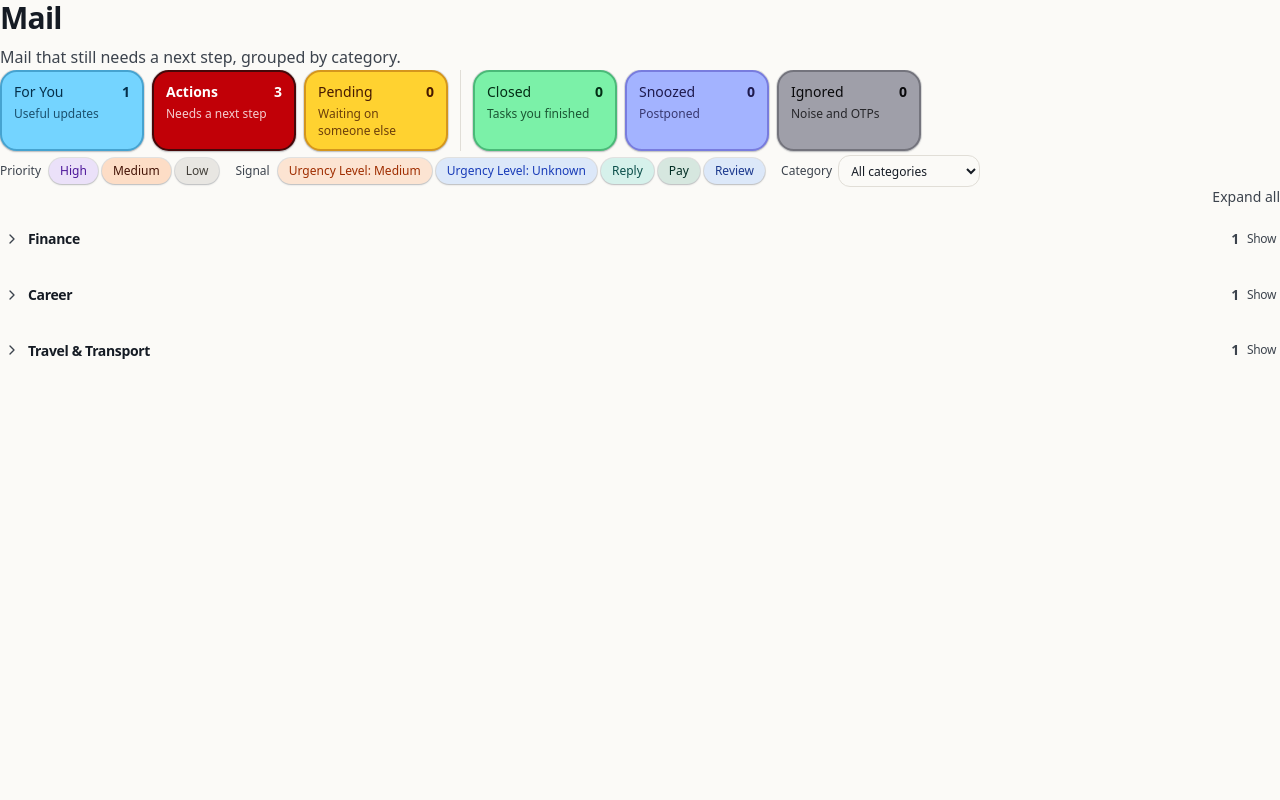
Test: MailWorkspace filters › shows only medium-priority mail when Medium is selected, then restores the list
Click the link with aria-label "Medium priority". click: (136,171)
box: [102,158,171,184]
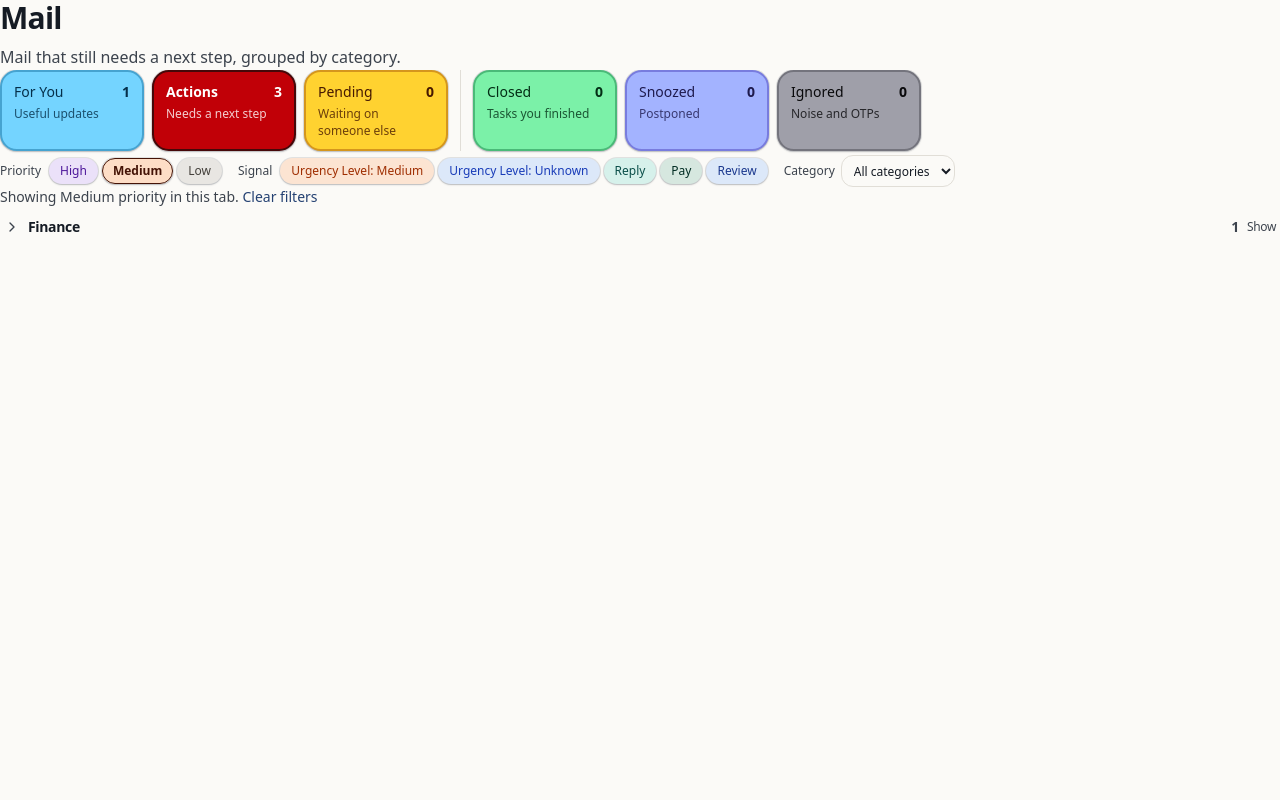
Click the button "Finance 1 Show". click: (54,226)
box: [0,207,1279,247]
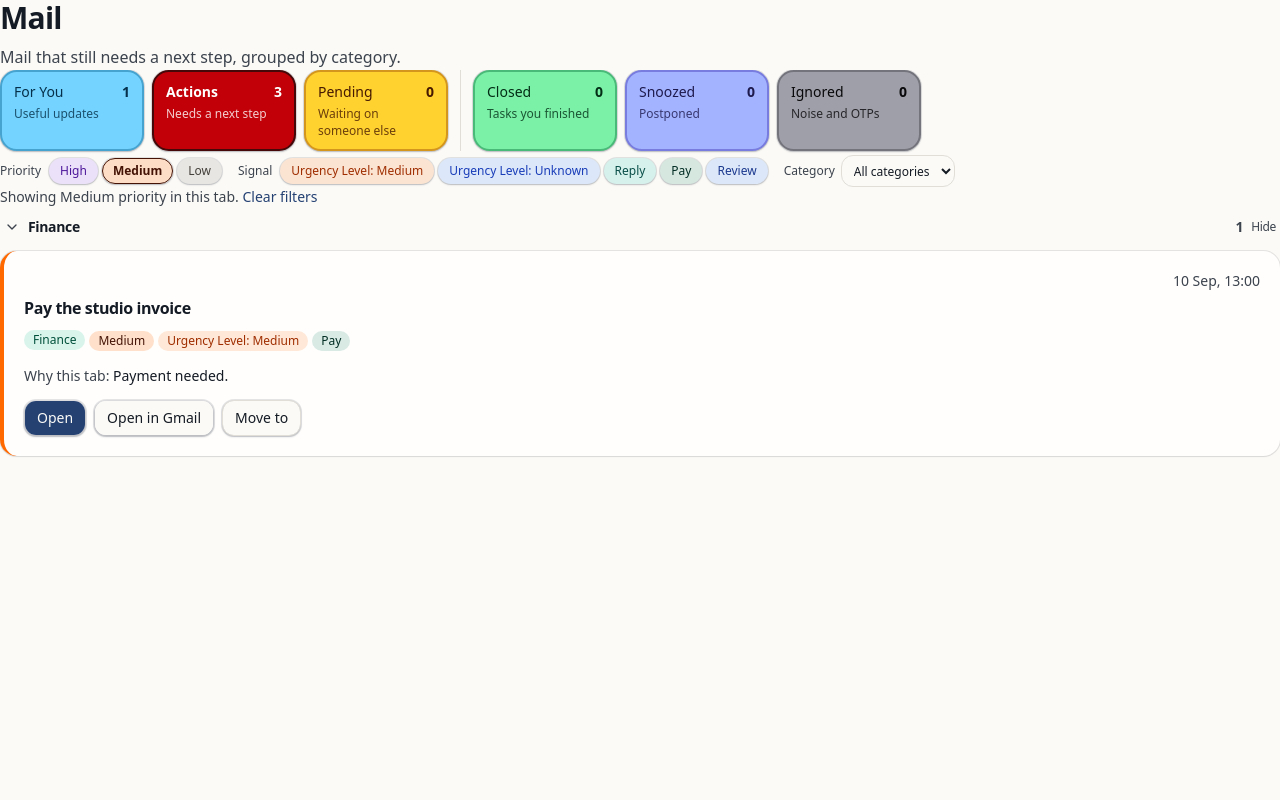
Expected: the text "Reply about the hotel" is not shown
Result: the text "Showing Medium priority in this tab. Clear filters" is shown at [0,187,318,206]
Result: the heading "Pay the studio invoice" is shown at [24,297,191,319]
Click the link "Clear filters". click: (280,196)
box: [242,187,318,206]
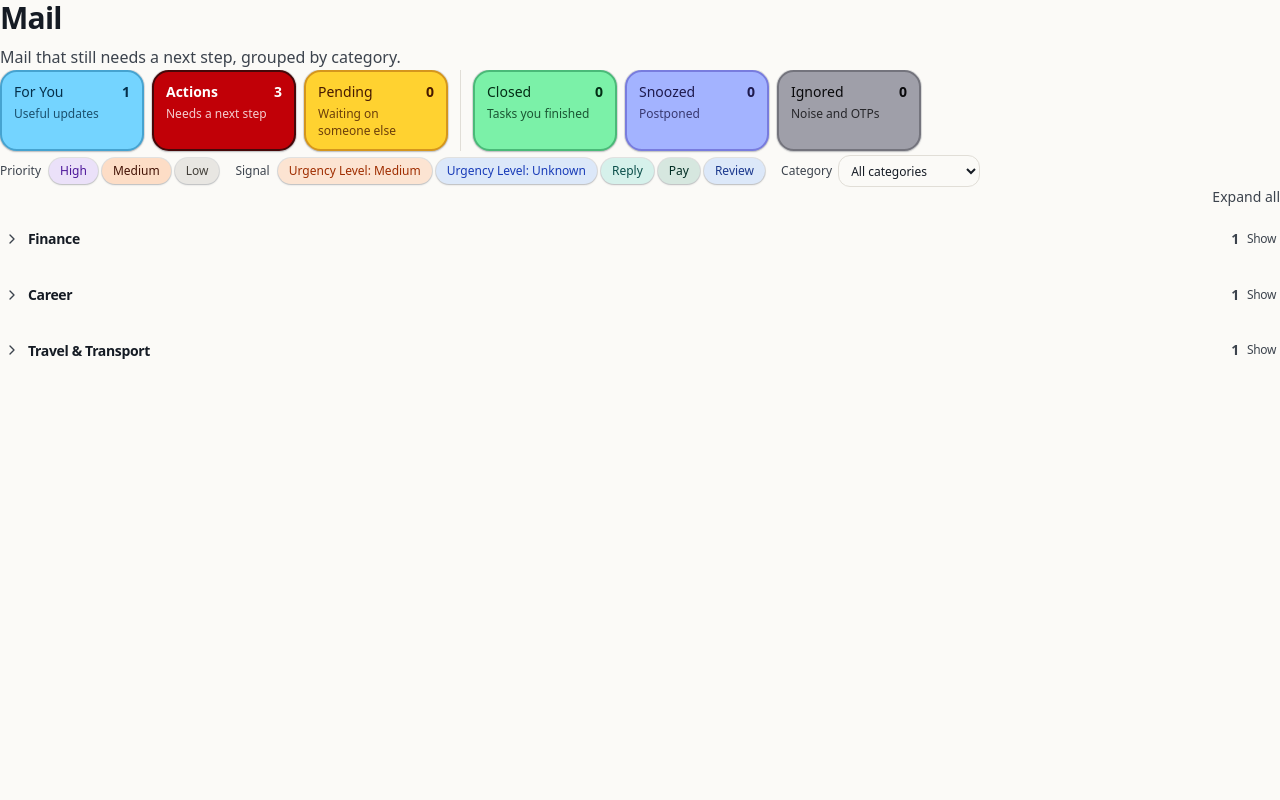
Click the button "Finance 1 Show". click: (54,238)
box: [0,219,1279,259]
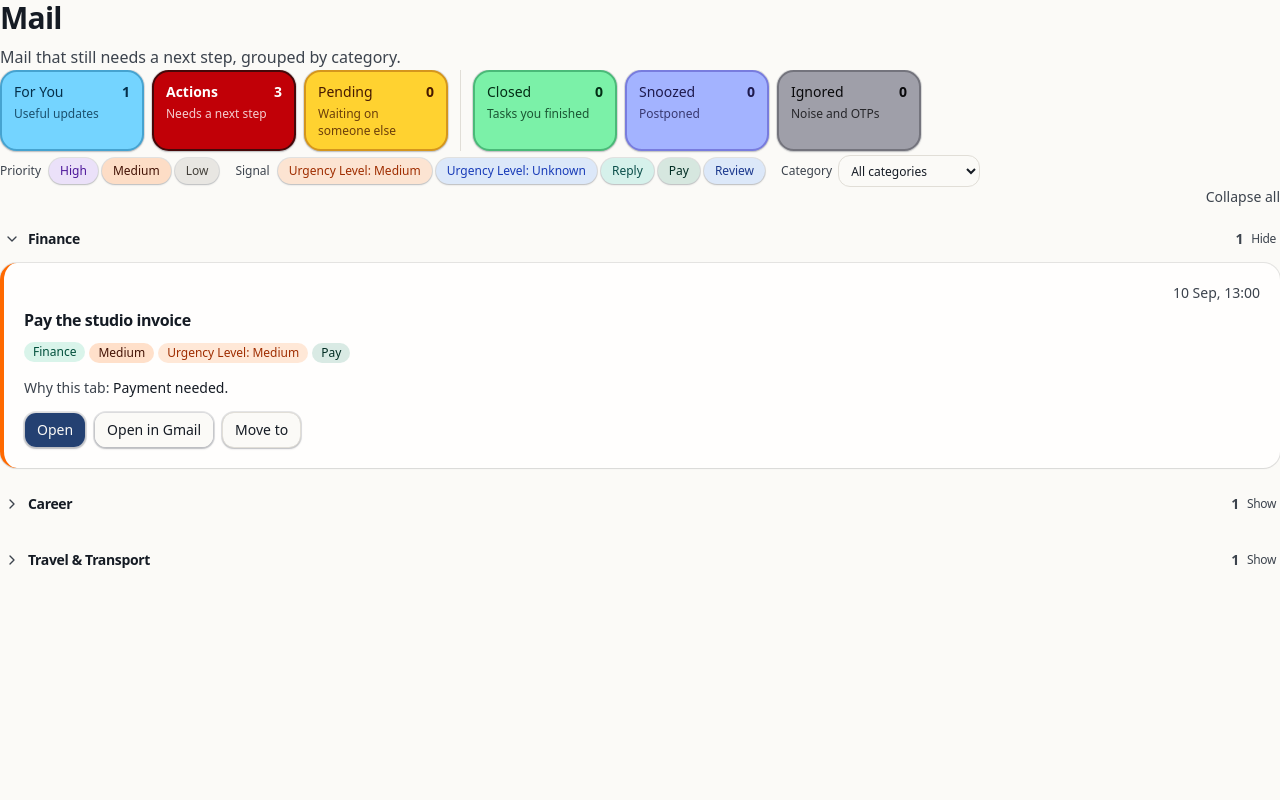
Click the button "Travel & Transport 1 Show". click: (89,559)
box: [0,540,1279,580]
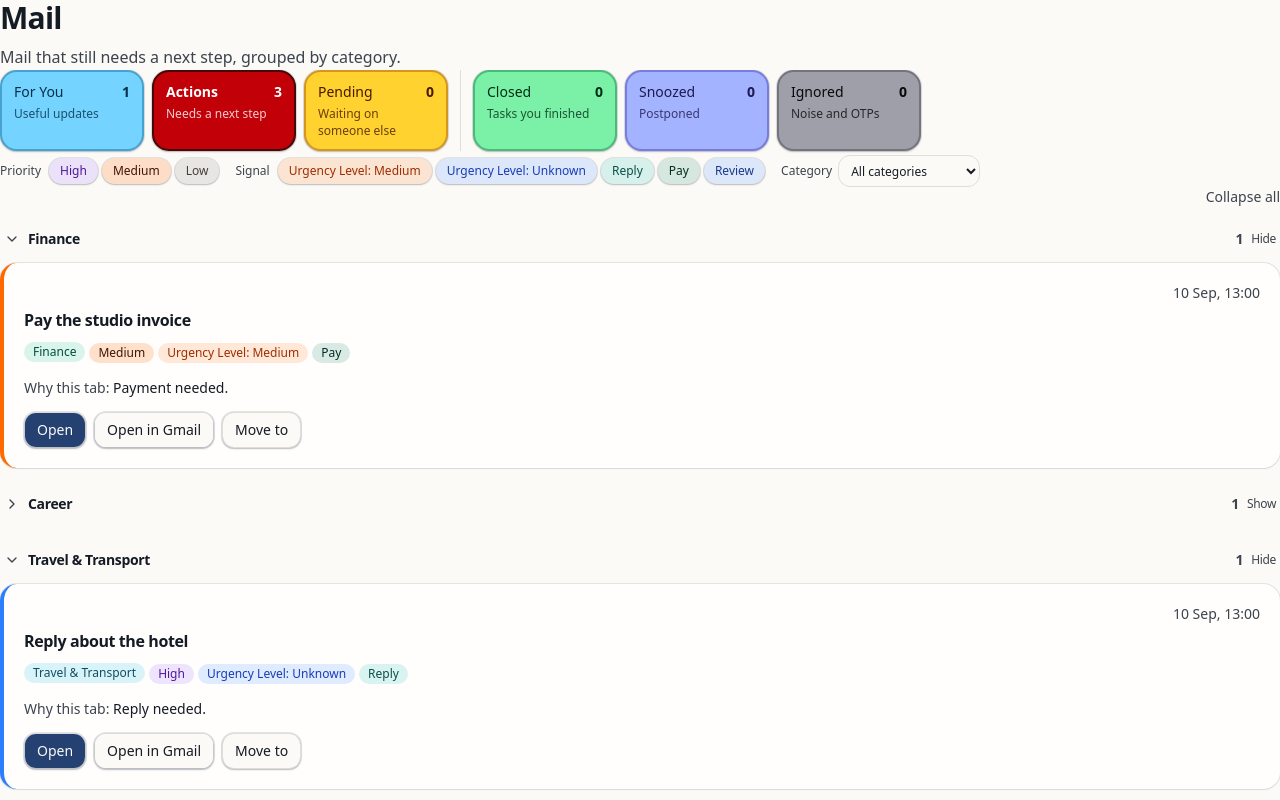
Click the button "Career 1 Show". click: (50,504)
box: [0,484,1279,524]
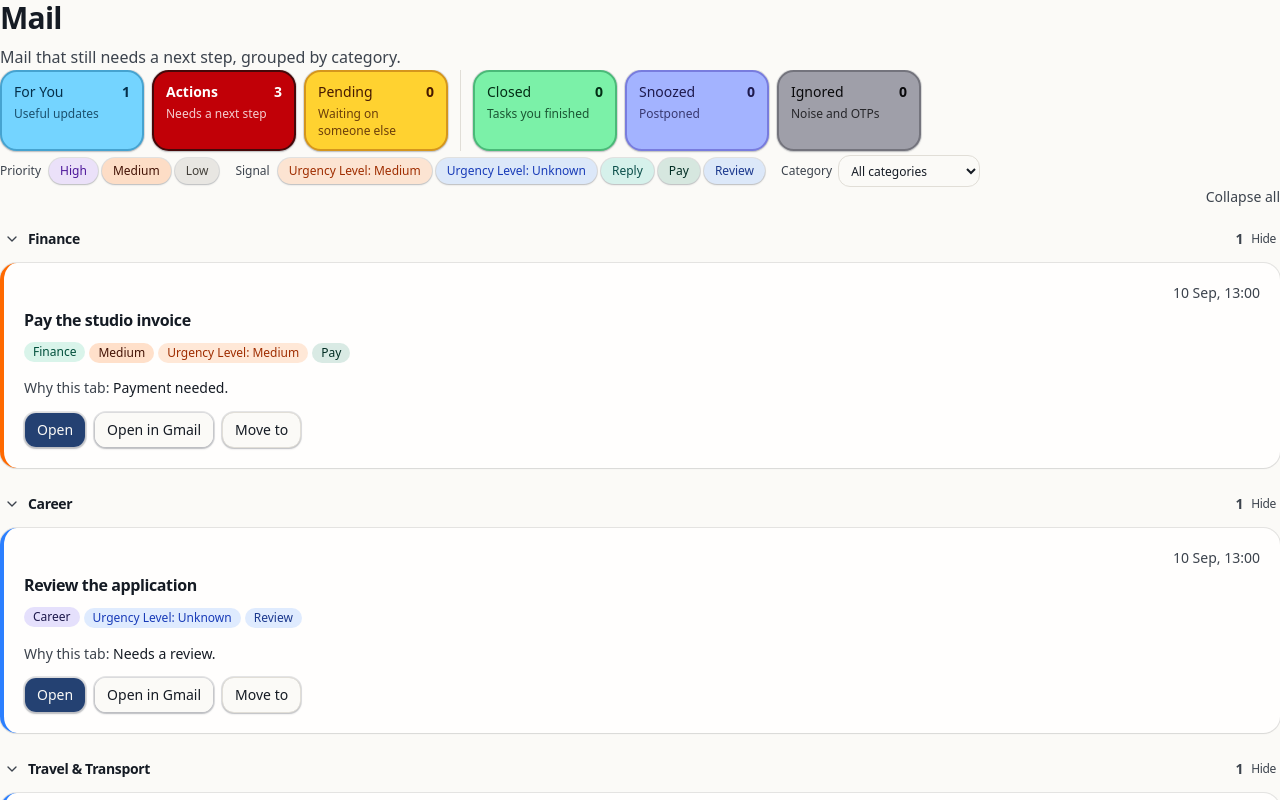
Result: the heading "Pay the studio invoice" is shown at [24,309,191,331]
Result: the heading "Review the application" is shown at [24,574,197,596]
